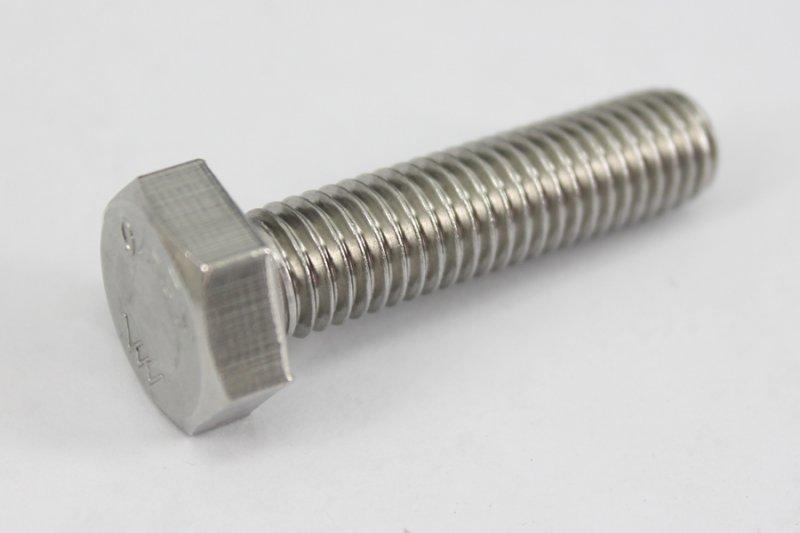screw: (99, 89, 720, 437)
